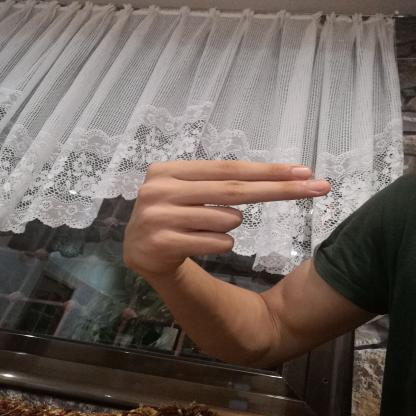AYN: (105, 146, 343, 280)
